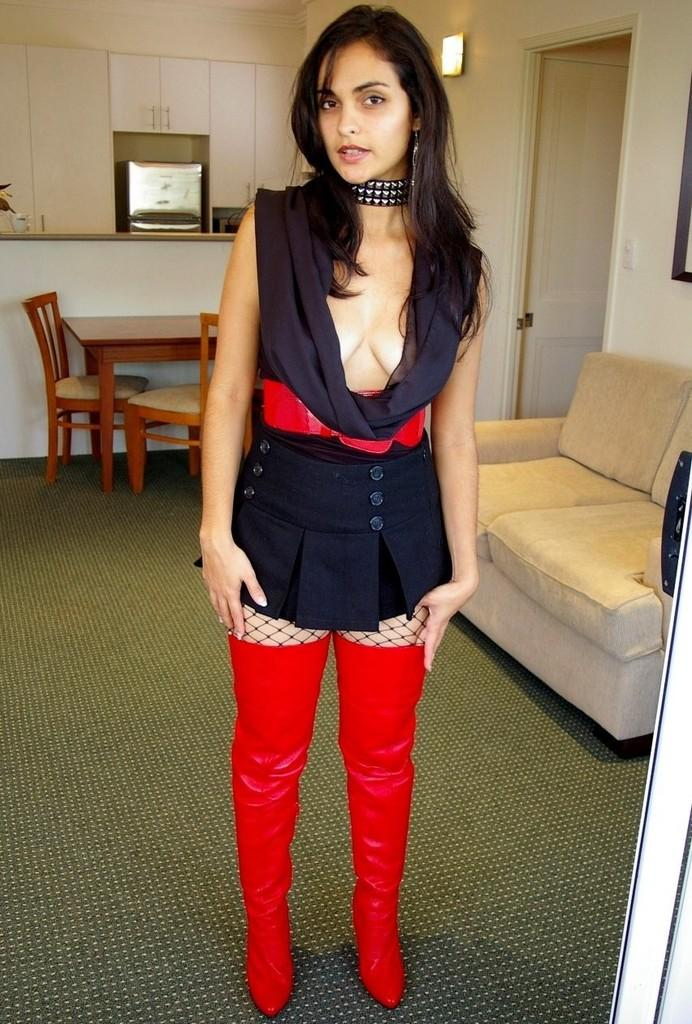Chair: (21, 290, 149, 489)
Luggage-and-bags: (115, 158, 203, 233)
